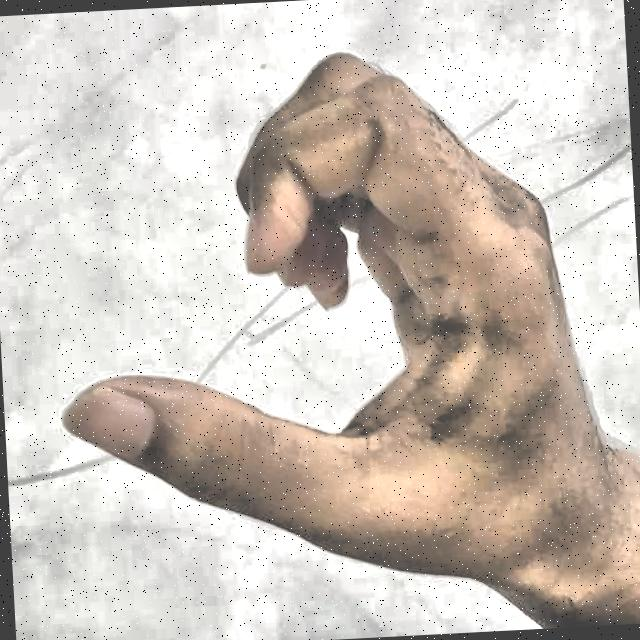Kha: (19, 7, 630, 619)
